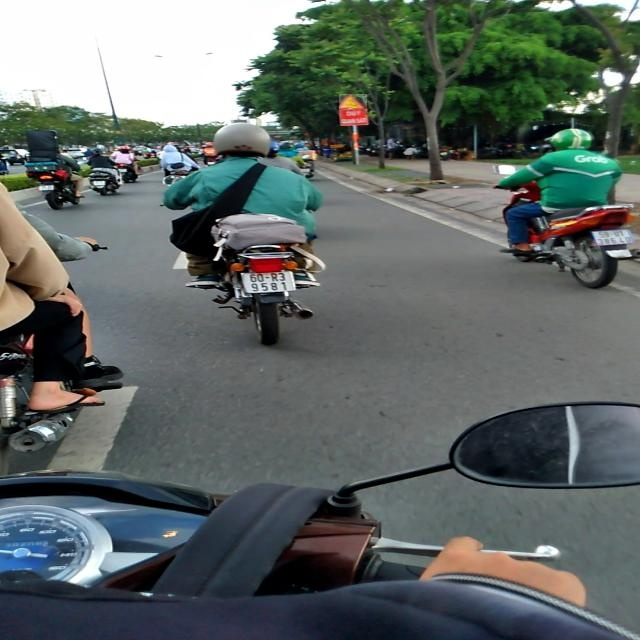bien_cam: (340, 94, 368, 109)
